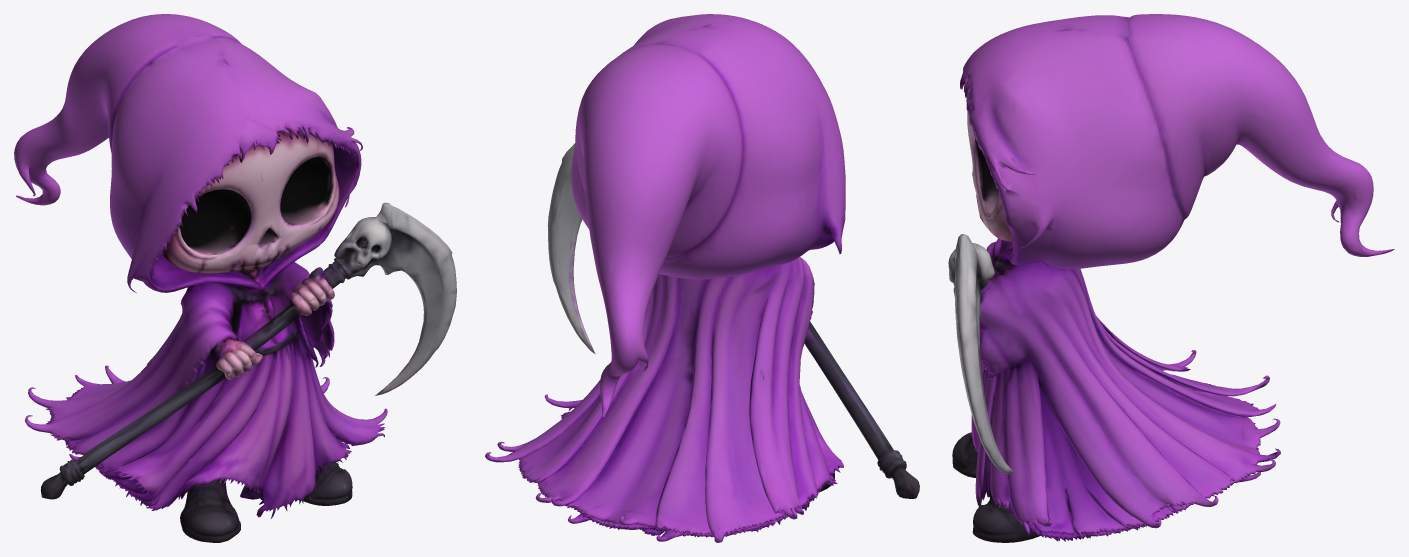
File: kaira-cat.gltf
3 views of the same model, side by side, from view 1: azimuth 30°, elevation 25°; view 2: azimuth 150°, elevation 25°; view 3: azimuth 270°, elevation 25° (orthographic). The views are drawn at different scales.
Visible parts, largest first — view 1: material; view 2: material; view 3: material.
Part boxes in pixels (bbox=[...]): material: bbox=[14, 14, 456, 542]; material: bbox=[485, 14, 919, 542]; material: bbox=[948, 14, 1394, 542].
Bounding box in the file's own units: 0.8171 × 0.9075 × 0.7769.
Materials: 1 (1 with a texture image).
